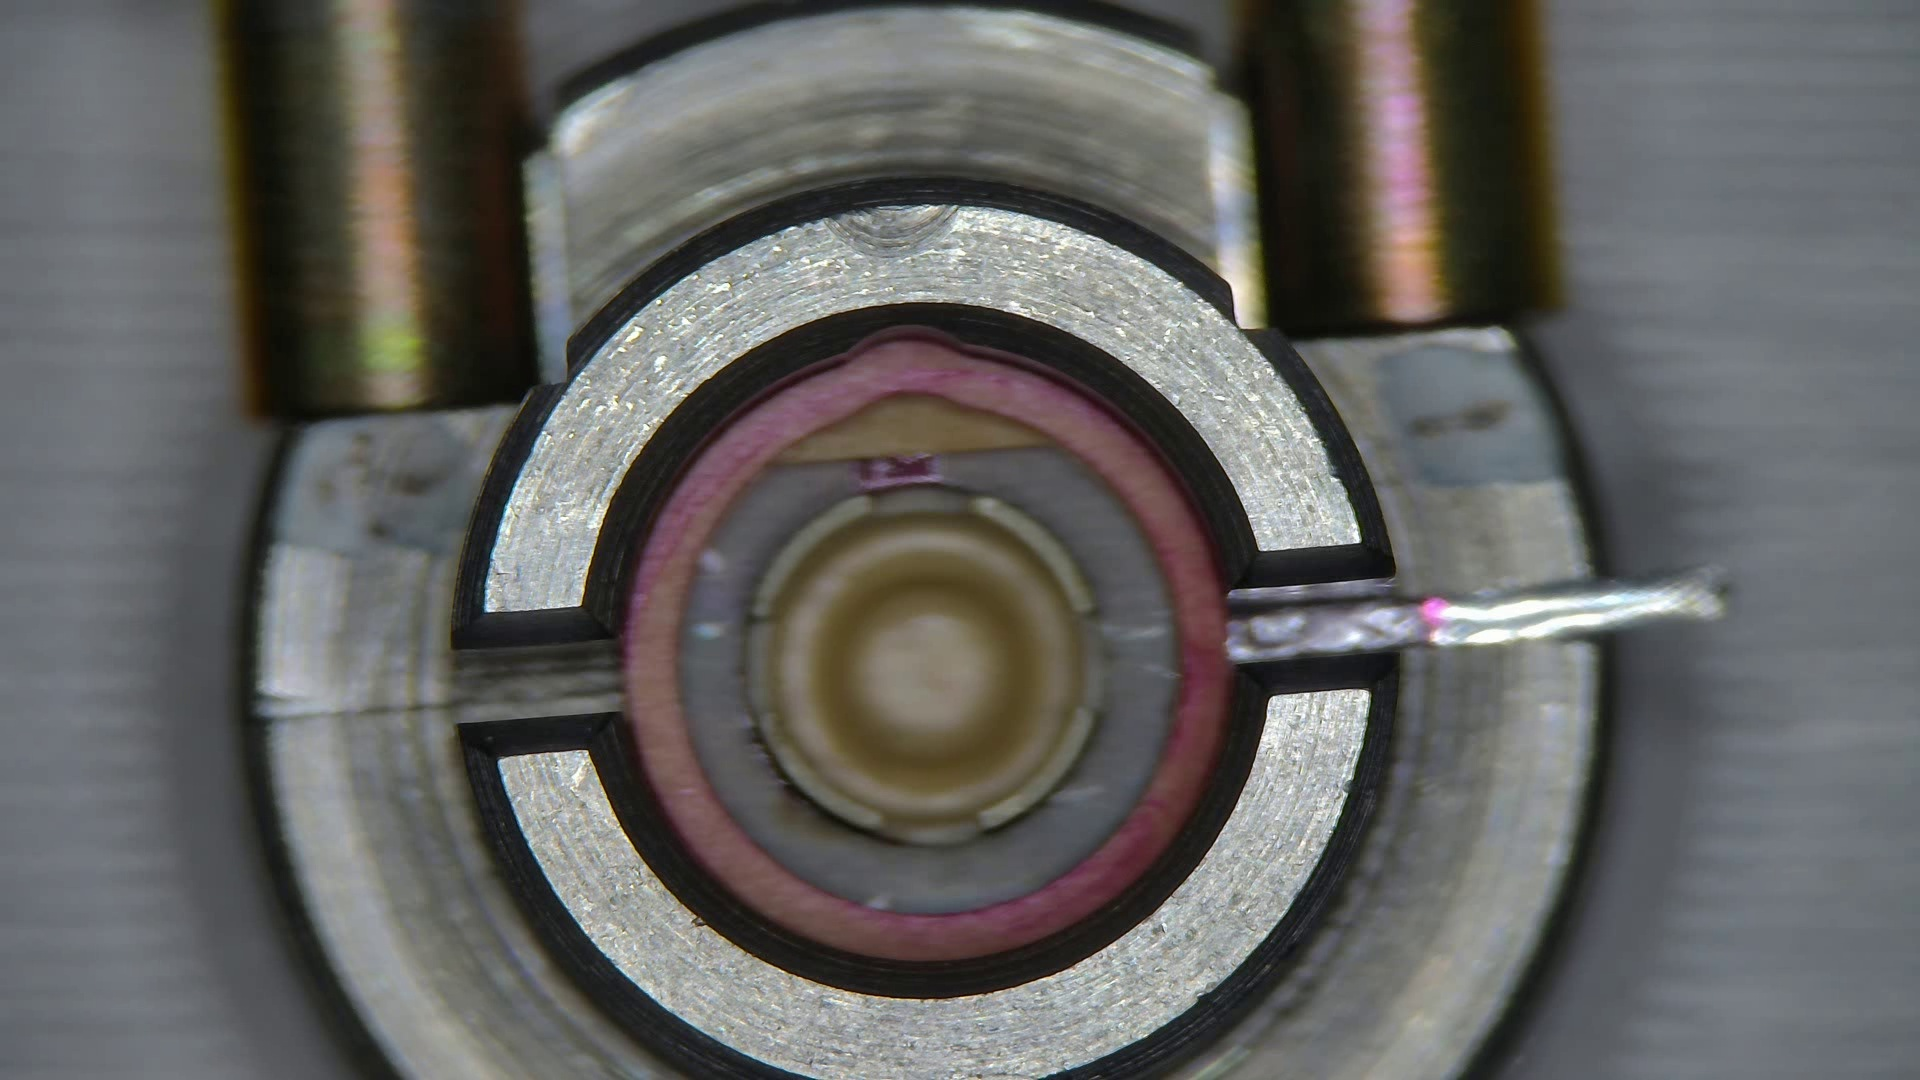GreyOring: (626, 337, 1230, 960)
YellowOring: (683, 452, 1176, 911)
redOring: (779, 398, 1054, 460)
